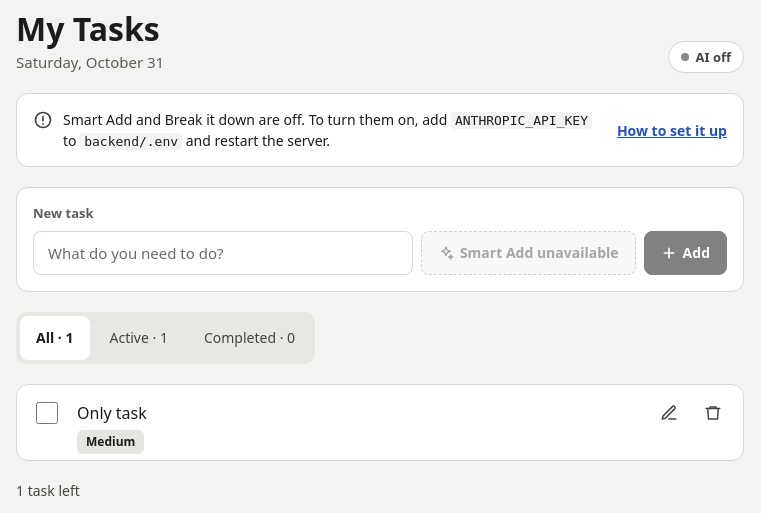
editing, filters and clear completed › shows a message when a filter has no tasks
Click the button "Completed · 0" at (250, 338), box x1=188 y1=316 x2=311 y2=360
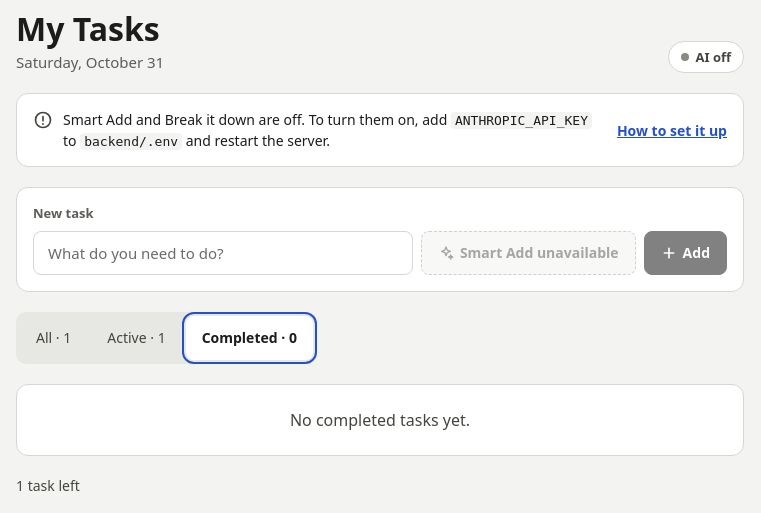
Now the text "No completed tasks yet." is shown, box x1=16 y1=384 x2=744 y2=456
